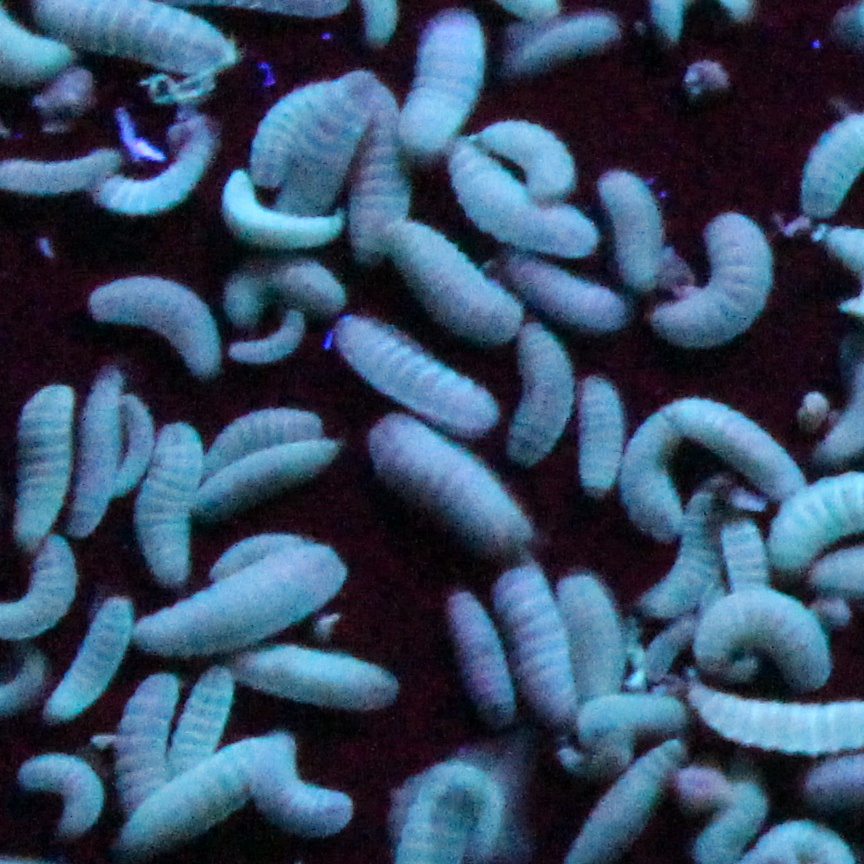larve: (130, 533, 350, 656), (328, 312, 501, 436), (435, 143, 605, 266), (363, 412, 524, 539), (122, 726, 271, 862), (378, 212, 526, 343), (651, 199, 774, 351), (490, 559, 583, 745), (449, 143, 601, 254), (682, 582, 836, 690), (82, 274, 228, 382), (665, 388, 803, 498), (192, 426, 349, 516), (395, 7, 484, 164), (552, 565, 633, 732), (192, 393, 338, 484), (136, 412, 211, 589), (211, 164, 351, 257), (42, 591, 136, 725), (224, 642, 400, 710), (503, 309, 574, 472), (438, 581, 517, 724), (249, 731, 354, 837), (249, 71, 343, 189), (593, 162, 672, 299), (468, 111, 586, 201), (15, 378, 72, 564), (97, 136, 220, 220), (117, 670, 181, 828), (218, 252, 348, 329), (74, 362, 128, 545), (173, 658, 237, 807), (625, 391, 683, 553), (11, 748, 107, 839), (570, 374, 628, 495), (115, 386, 157, 518), (511, 14, 615, 64), (229, 303, 306, 369)
